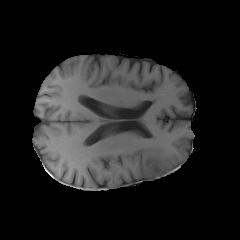glioma: (128, 136, 177, 177)
